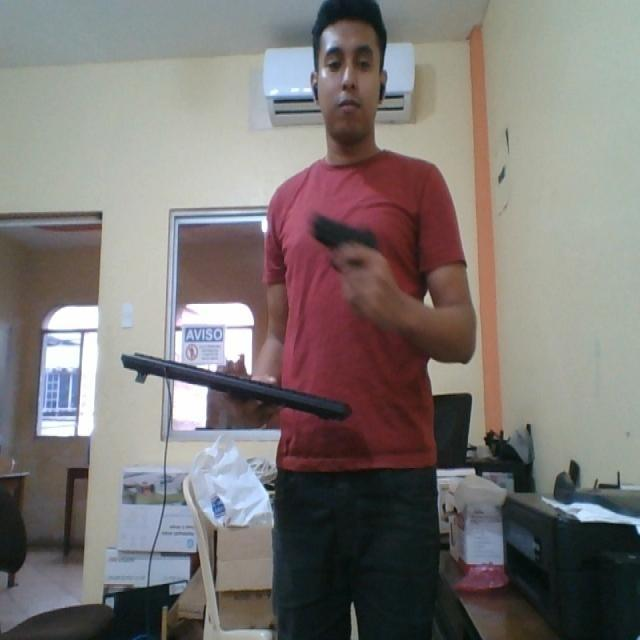weapon: (308, 210, 387, 294)
